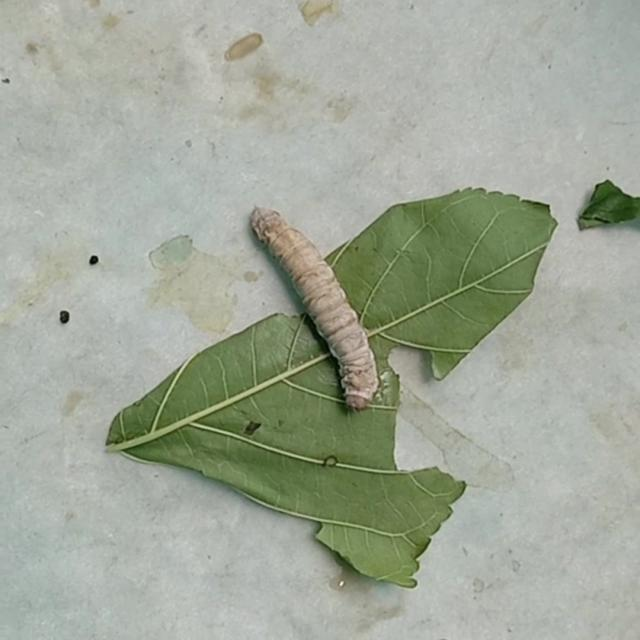Grasserie: (226, 175, 419, 435)
